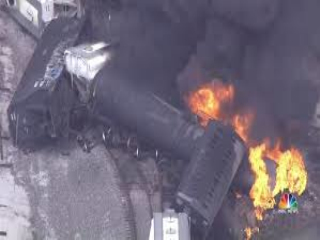fire: (249, 140, 309, 214), (193, 84, 259, 137)
smoke: (145, 3, 320, 99)
